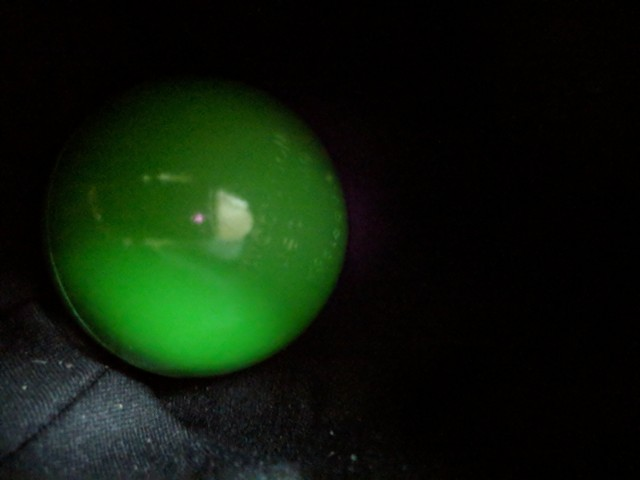Ball: (37, 82, 348, 383)
